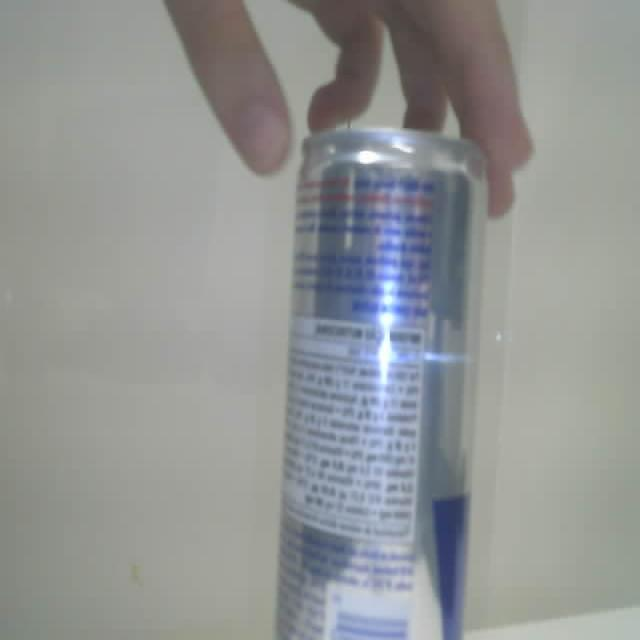redbull can: (277, 130, 486, 639)
